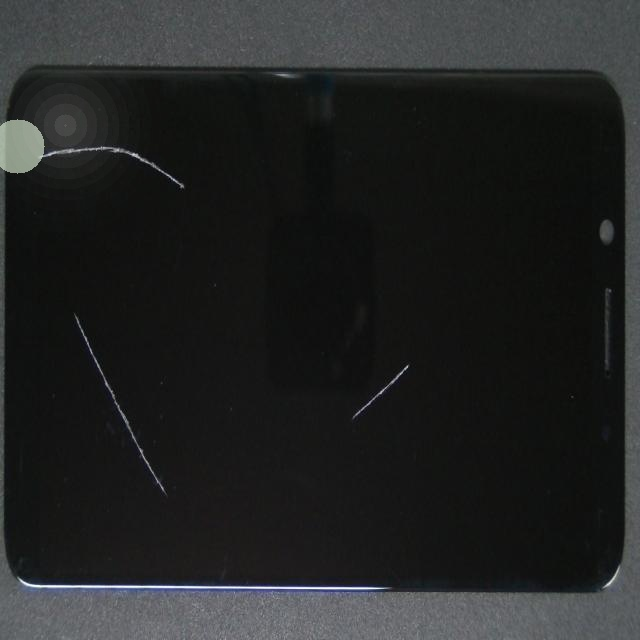scratch: (244, 138, 582, 541), (142, 351, 218, 640), (169, 77, 206, 223)
